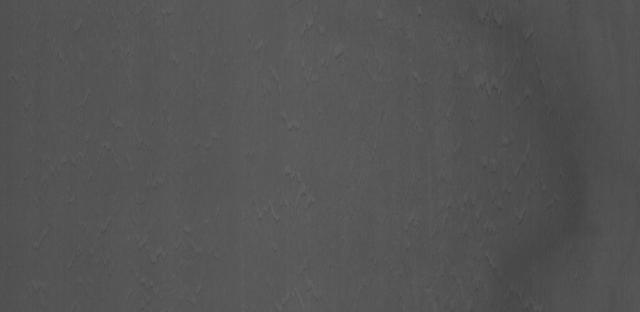silk_spot: (460, 49, 558, 211), (262, 26, 349, 90)
